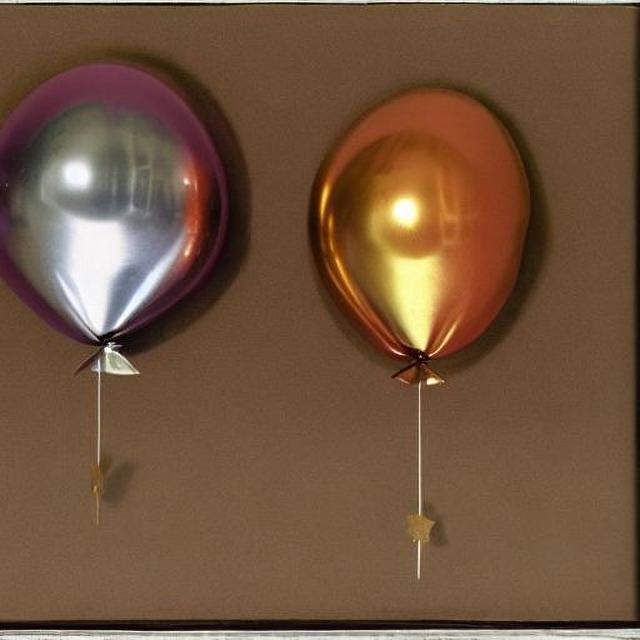balloon: (300, 78, 548, 383), (5, 50, 226, 383)
